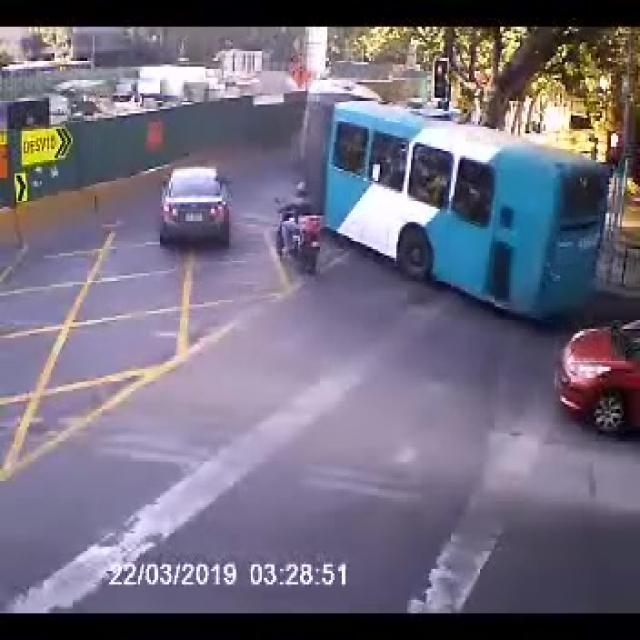AB: (295, 75, 607, 338)
